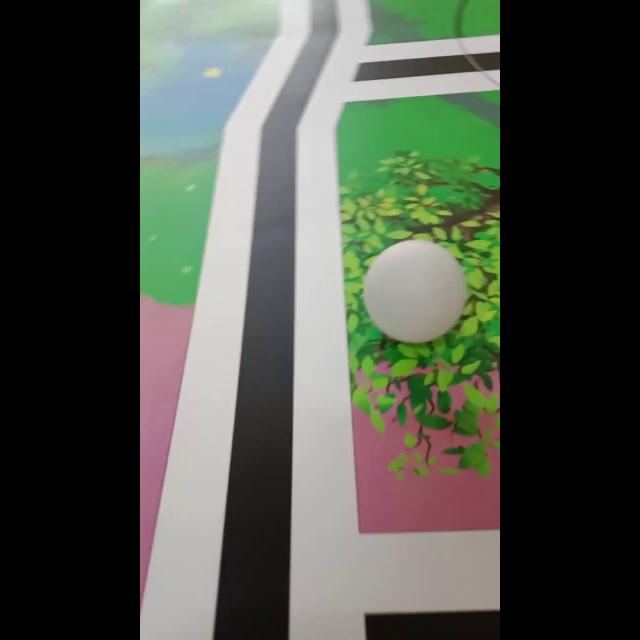white ball: (362, 238, 468, 344)
